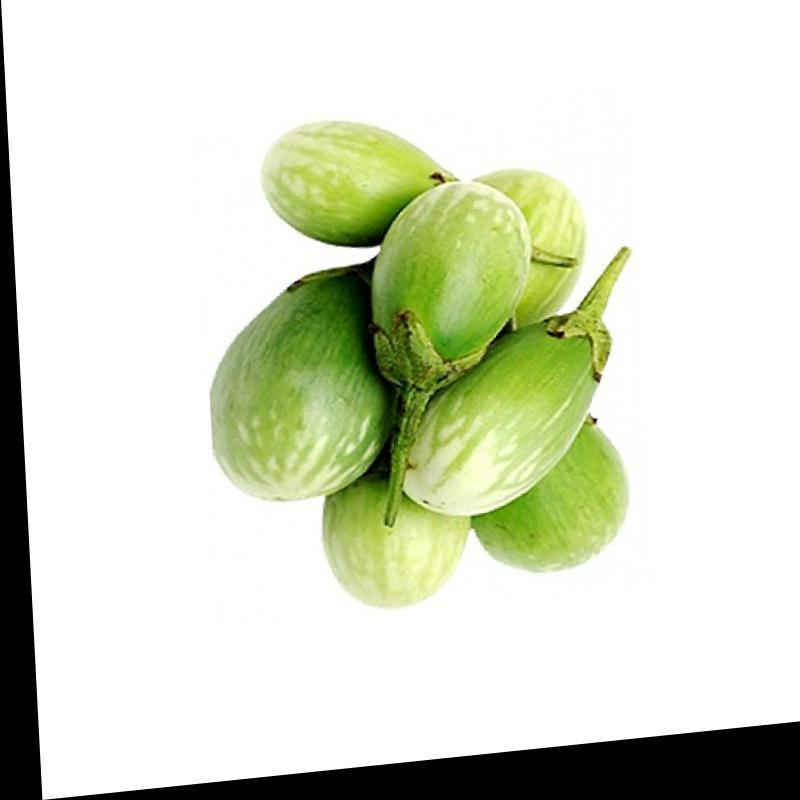eggplant: (158, 59, 688, 670)
